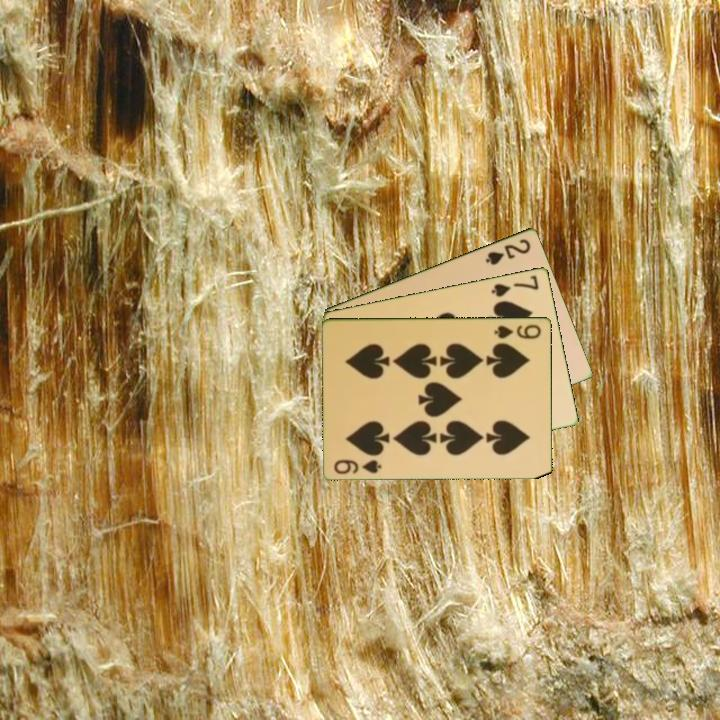2s: (482, 235, 534, 268)
7s: (488, 271, 542, 300)
9s: (331, 456, 385, 477), (491, 321, 544, 342)
